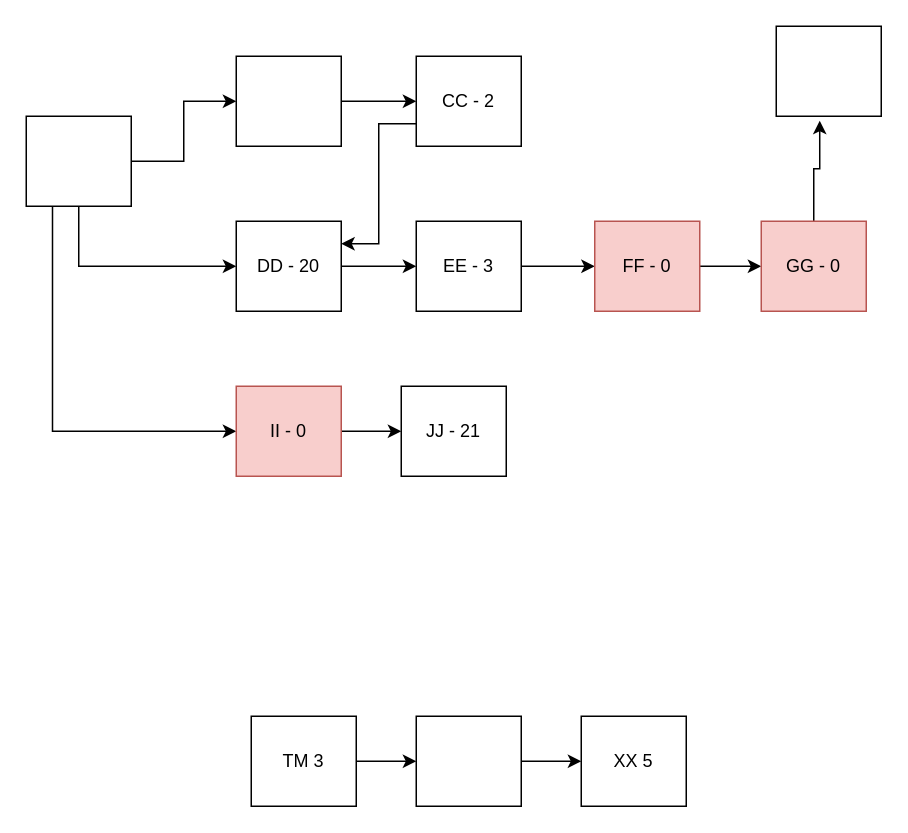
Image size: 908x833. Some labels were removed from this diagram. The centre of each missing label's shape, as x and y in pixels:
AA - 0: the point at 78,160
BB - 13: the point at 288,100
HH - 22: the point at 828,70
WB 0: the point at 468,760
